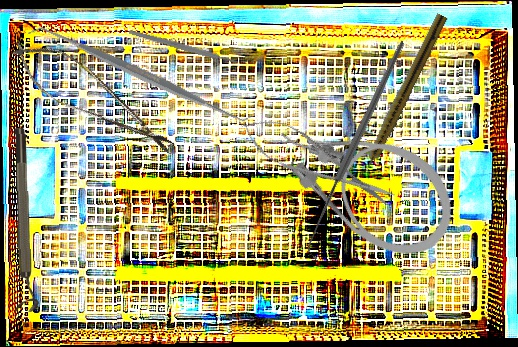Cannula: (260, 82, 474, 277)
Fixation Ring: (11, 127, 40, 313)
Handpiece: (355, 11, 449, 179)
Hook Surgical: (239, 38, 477, 261)
Micro Scissor: (0, 27, 187, 168), (232, 105, 404, 220)
Scalpel Handle: (128, 28, 238, 66)
Spatula Surgical: (26, 11, 254, 137)
